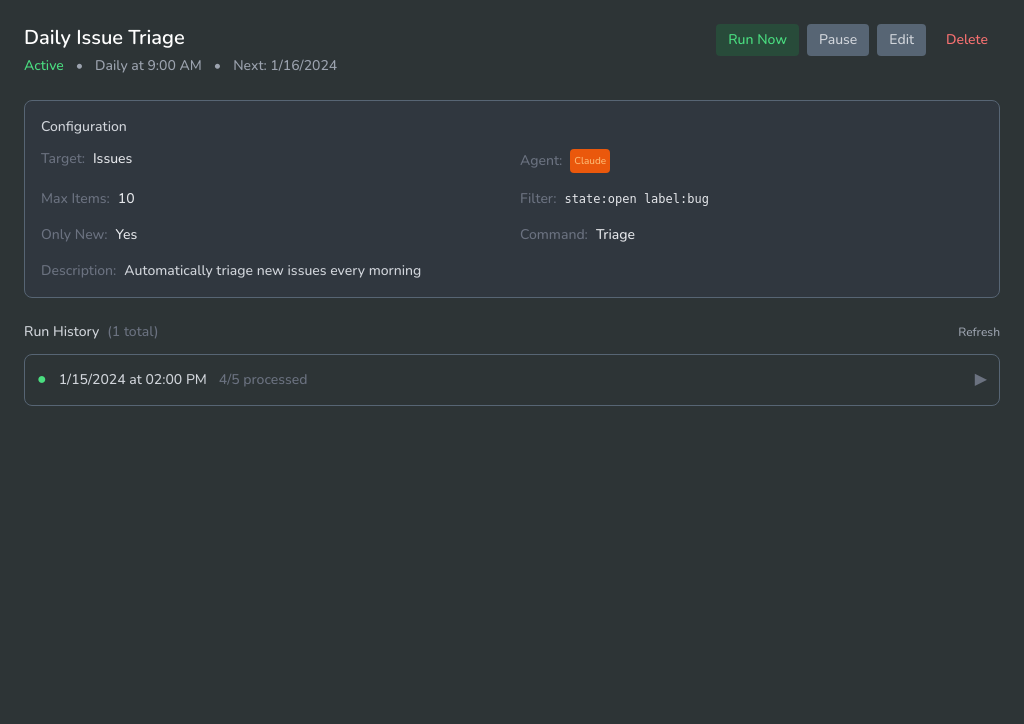
Test: ScheduleDetail › Edit Mode › enters edit mode when Edit is clicked
Click the button "Edit" at (902, 40), box x1=877 y1=24 x2=926 y2=56
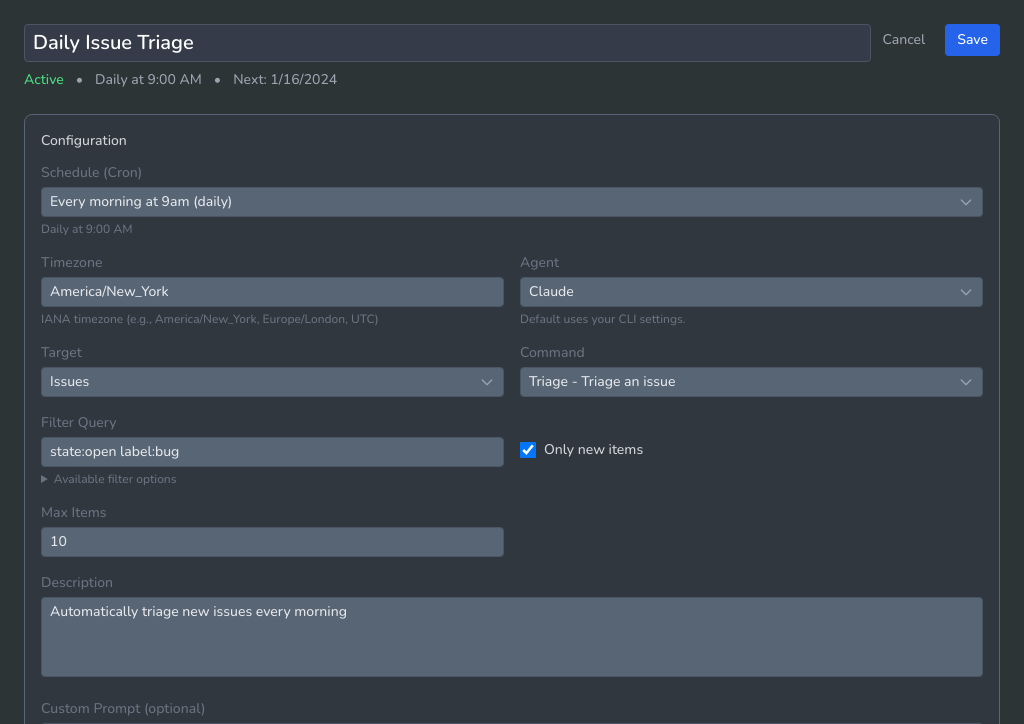
expect the button "Cancel" is shown: met, box x1=870 y1=24 x2=937 y2=56
expect the button "Save" is shown: met, box x1=945 y1=24 x2=1000 y2=56
